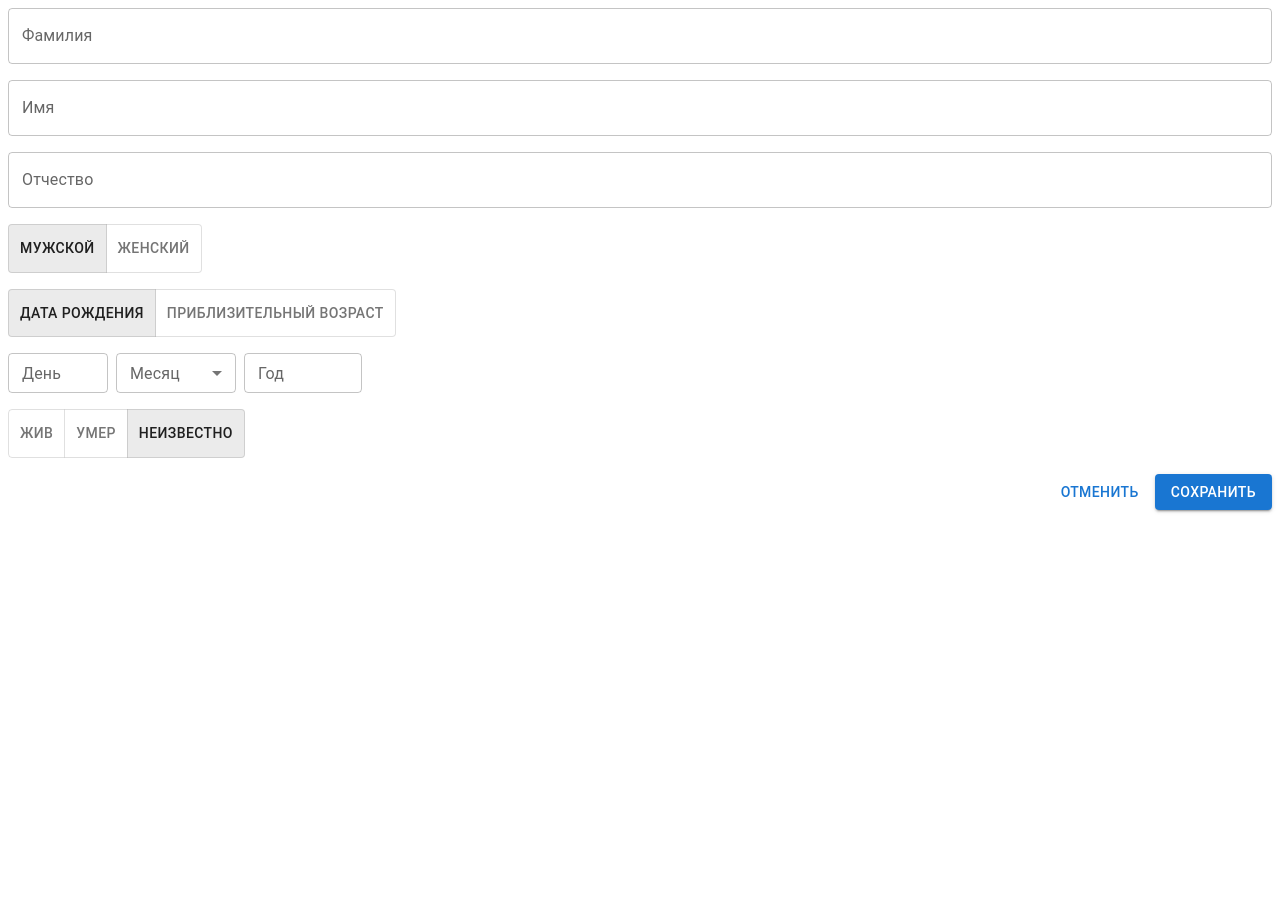
PersonDataForm — basic › shows deathDate label and tragically when "Умер" selected
Click the button "Умер" at coordinates (96, 433), box [64,409,128,458]
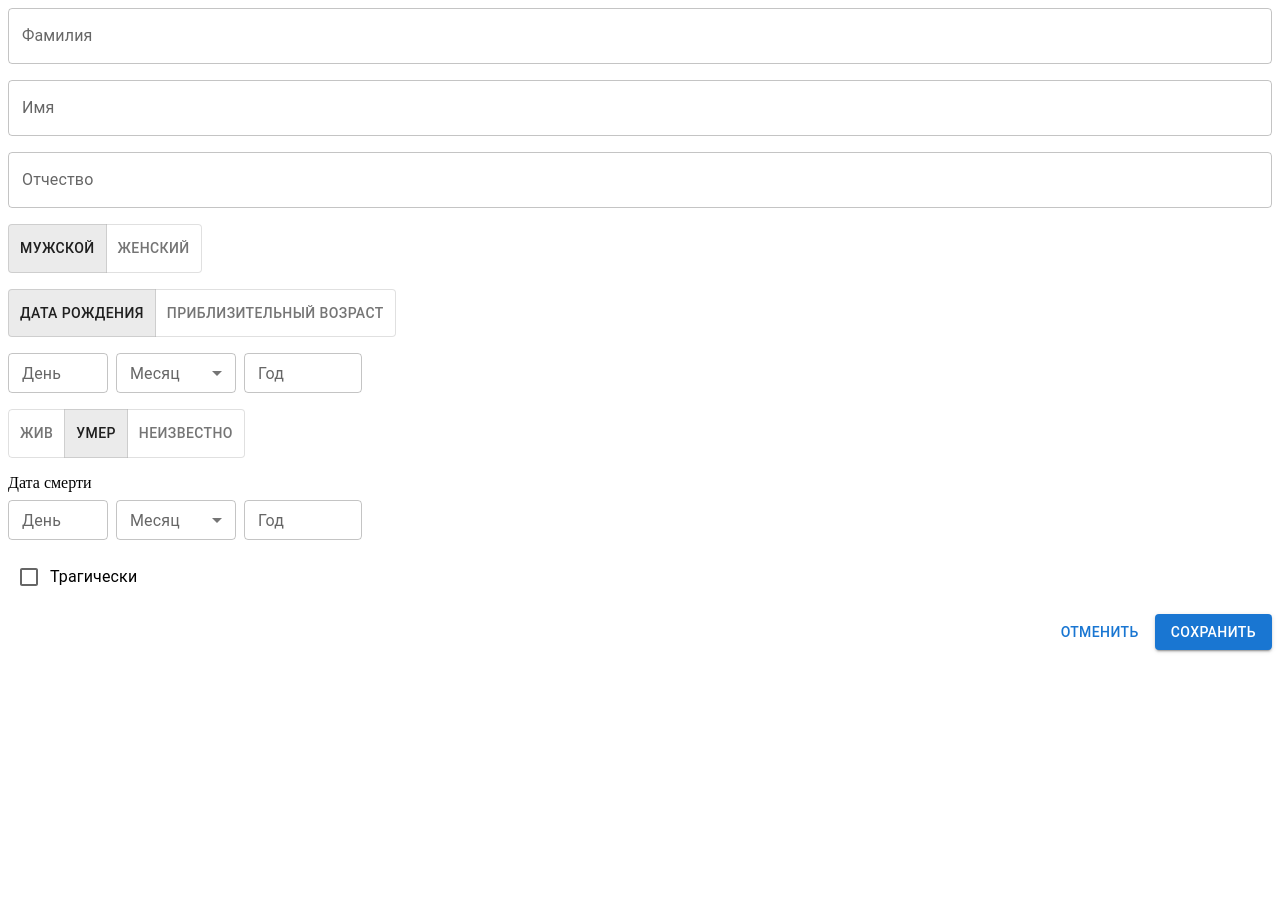
expect the text "Дата смерти" is shown: met, box [8,474,92,490]
expect the checkbox labelled "Трагически" is shown: met, box [17,564,137,588]
